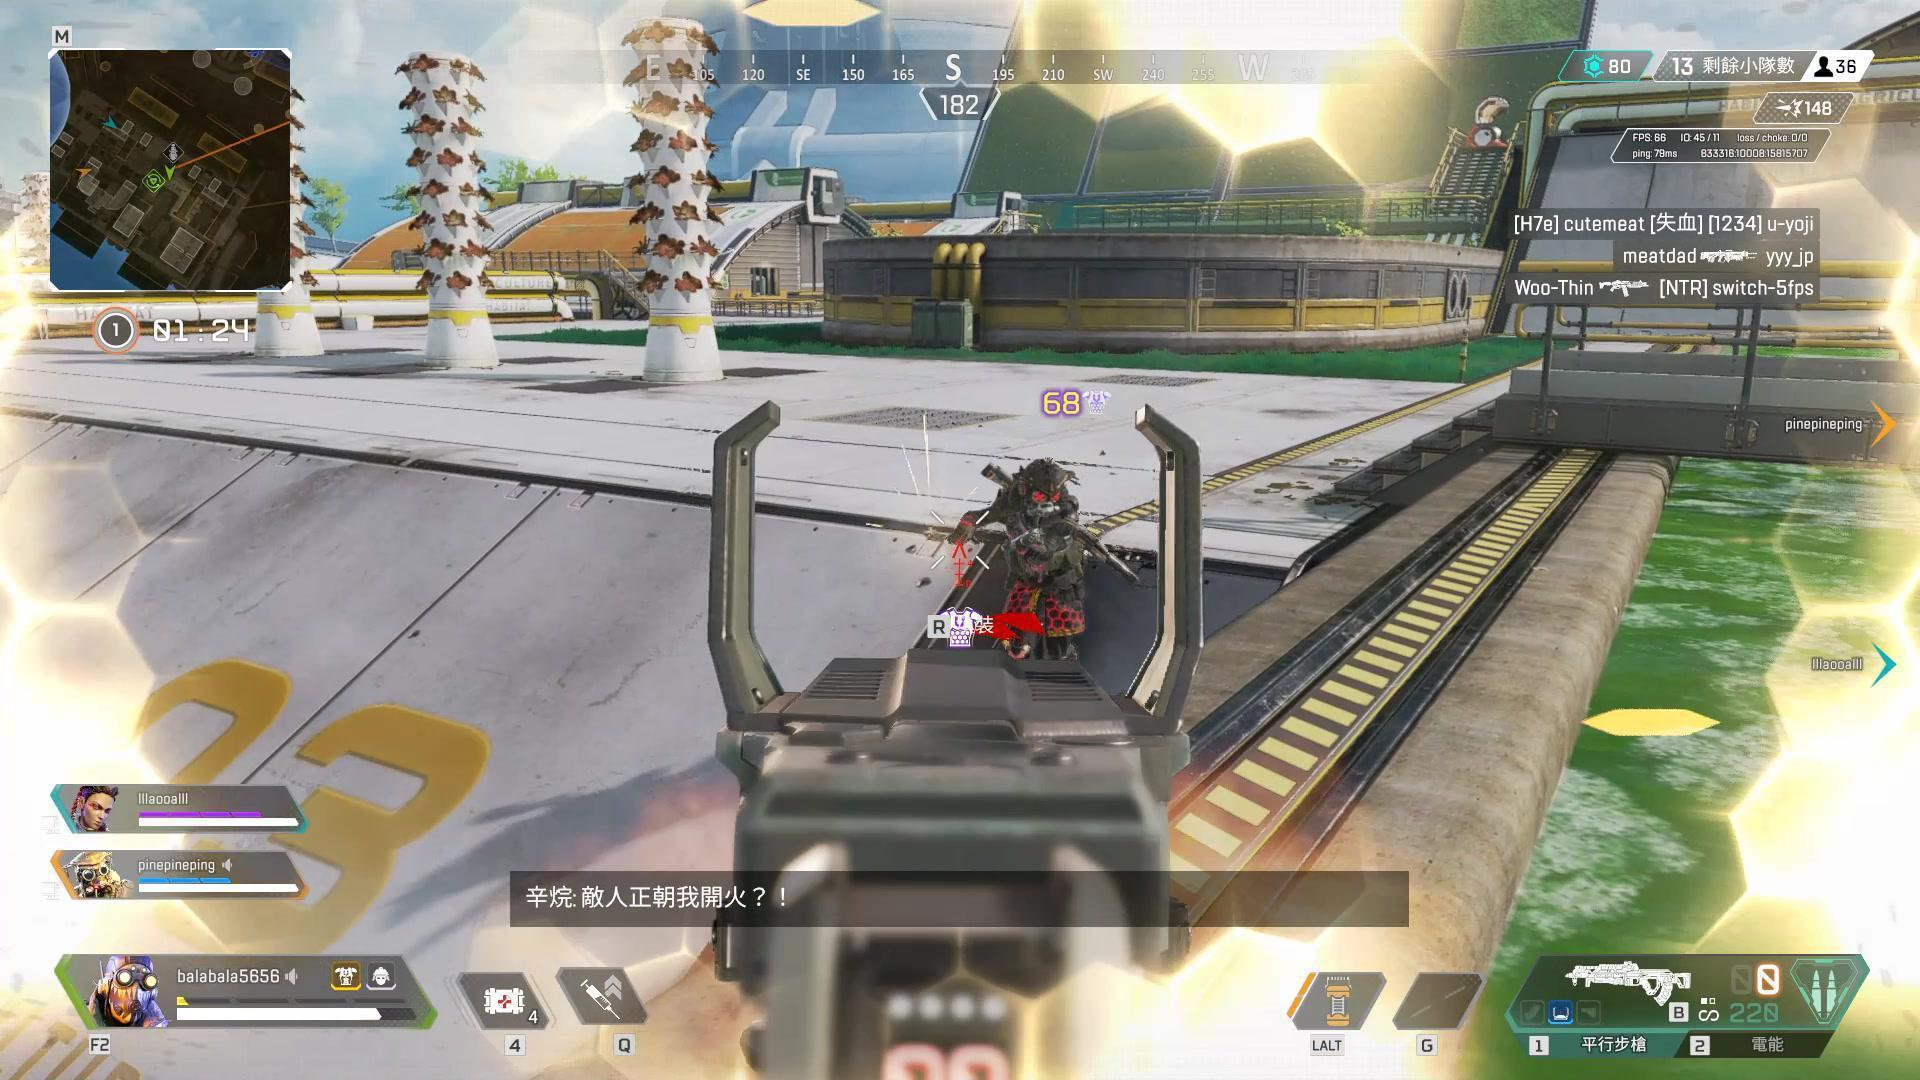avatar: (977, 457, 1091, 660)
